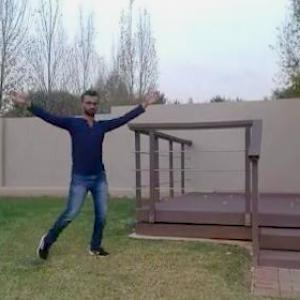takeoff: (0, 87, 145, 258)
